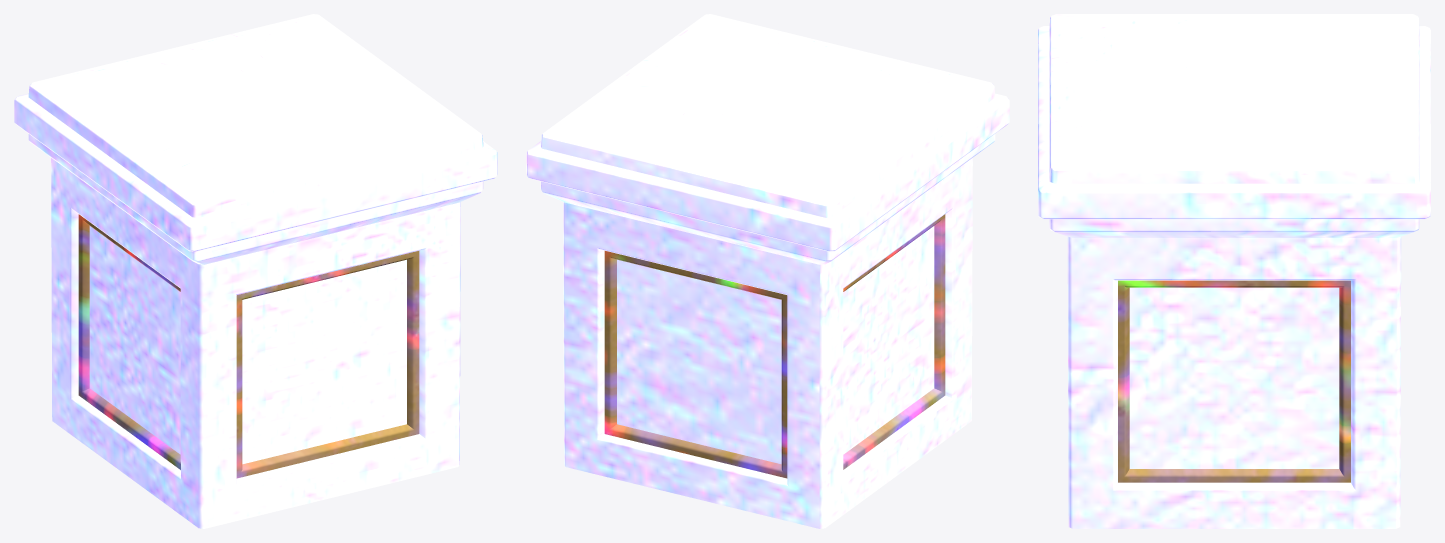
Rendered from banister_end_SM.fbx.
3 views of the same model, side by side, from view 1: azimuth 30°, elevation 25°; view 2: azimuth 150°, elevation 25°; view 3: azimuth 270°, elevation 25° (orthographic). The views are drawn at different scales.
Visible parts, largest first — view 1: banister_end_SM_LOD0; view 2: banister_end_SM_LOD0; view 3: banister_end_SM_LOD0.
Boxes of the visible parts, <box> form: banister_end_SM_LOD0: <box>14,14,497,528</box>; banister_end_SM_LOD0: <box>526,14,1009,528</box>; banister_end_SM_LOD0: <box>1038,14,1430,528</box>.
Size of the model in its own units: 103 by 103 by 110.
2 materials, 1 textured.
